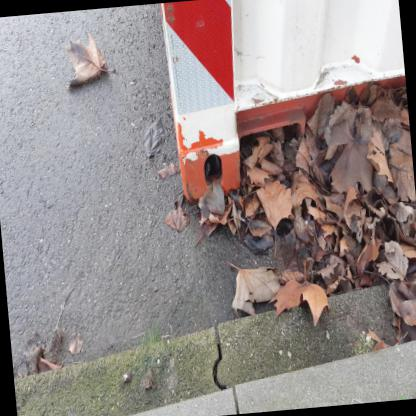CornerCasting: (176, 133, 247, 210)
